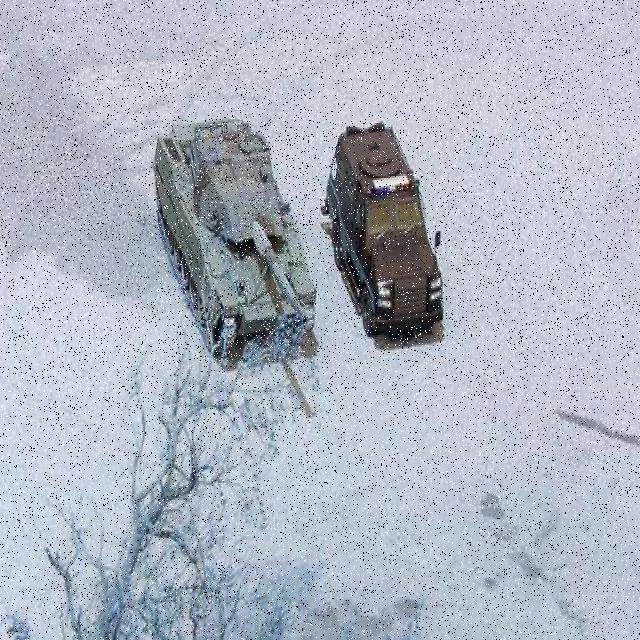MIL_MBT: (154, 119, 315, 364)
